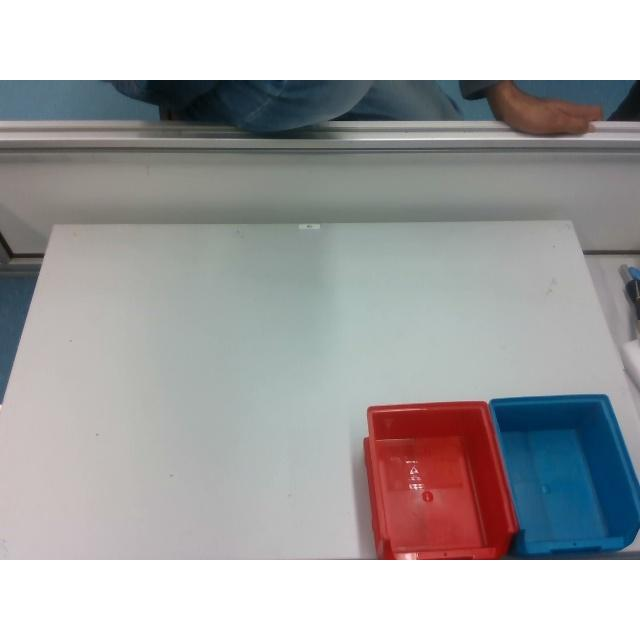container_box_blue: (490, 394, 638, 554)
container_box_red: (366, 402, 514, 558)
